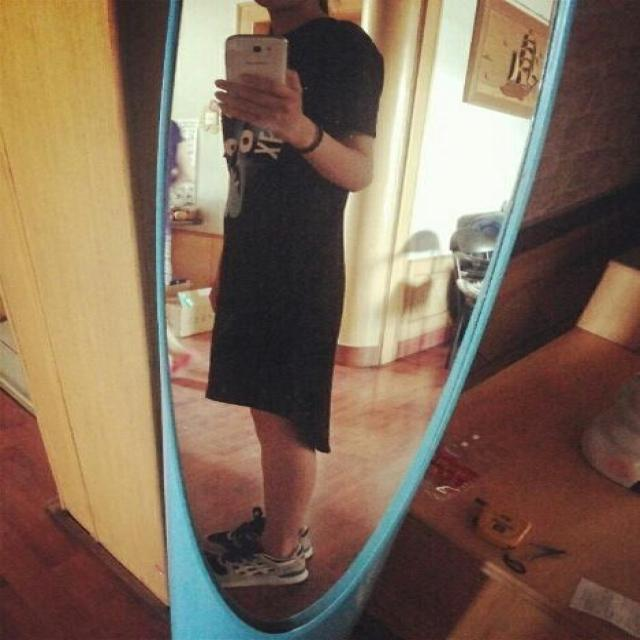short sleeve dress: (211, 18, 384, 452)
